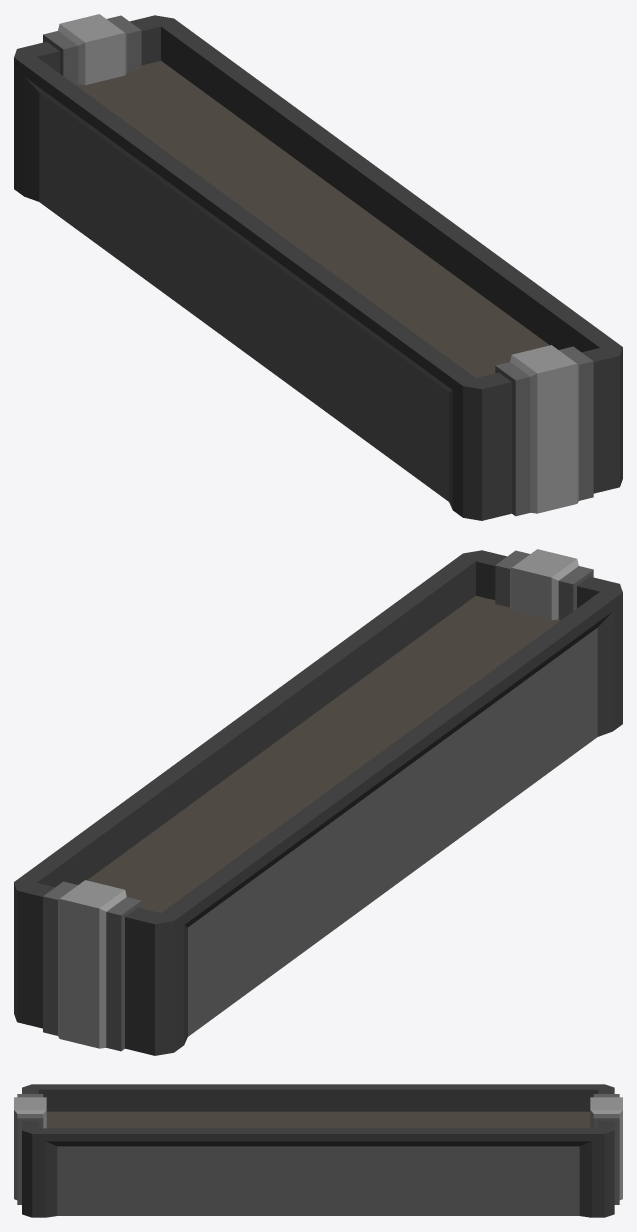
The model's file is Flower_Bed_01.FBX.
3 renders of one model, top to bottom at view 1: azimuth 30°, elevation 25°; view 2: azimuth 150°, elevation 25°; view 3: azimuth 270°, elevation 25°, orthographic. The views are drawn at different scales.
Parts seen in each view (by area): view 1: Flower_Bed_01_LOD0; view 2: Flower_Bed_01_LOD0; view 3: Flower_Bed_01_LOD0.
Part boxes in pixels (x1,y1,x2,y2): Flower_Bed_01_LOD0: [14, 14, 622, 520]; Flower_Bed_01_LOD0: [14, 549, 622, 1055]; Flower_Bed_01_LOD0: [14, 1084, 622, 1217].
Size of what is drawn, in the model's own units: 48.14 by 40.28 by 249.
